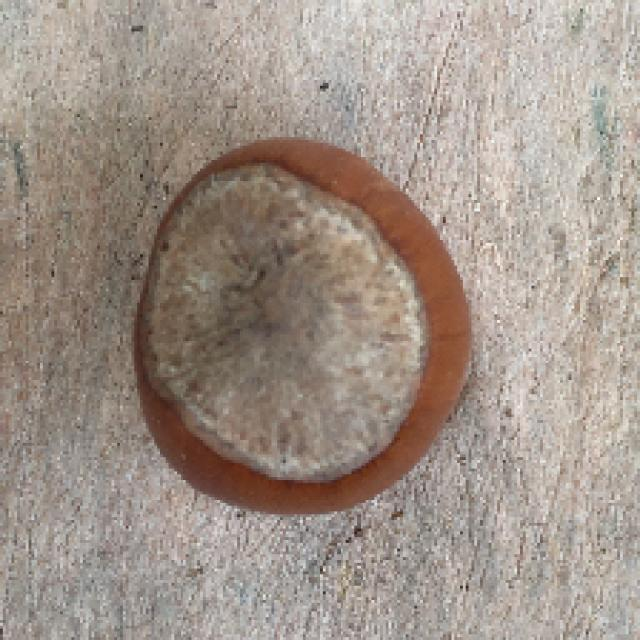qualityHazelnut: (130, 132, 476, 524)
